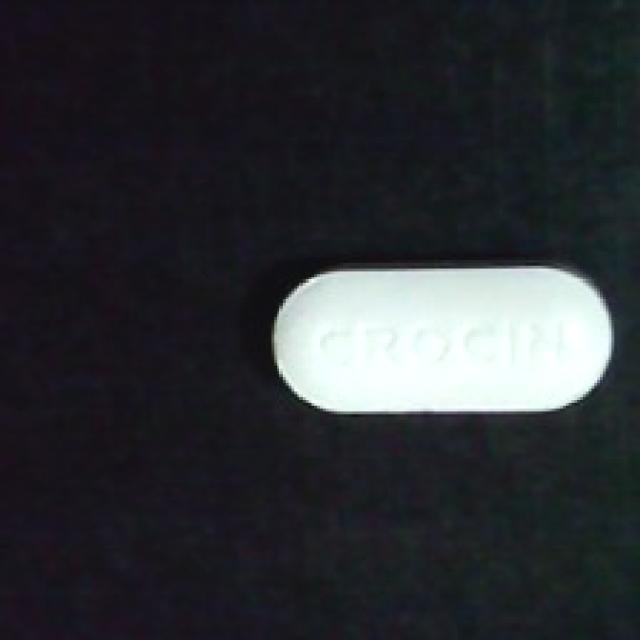no-defect: (263, 257, 626, 429)
